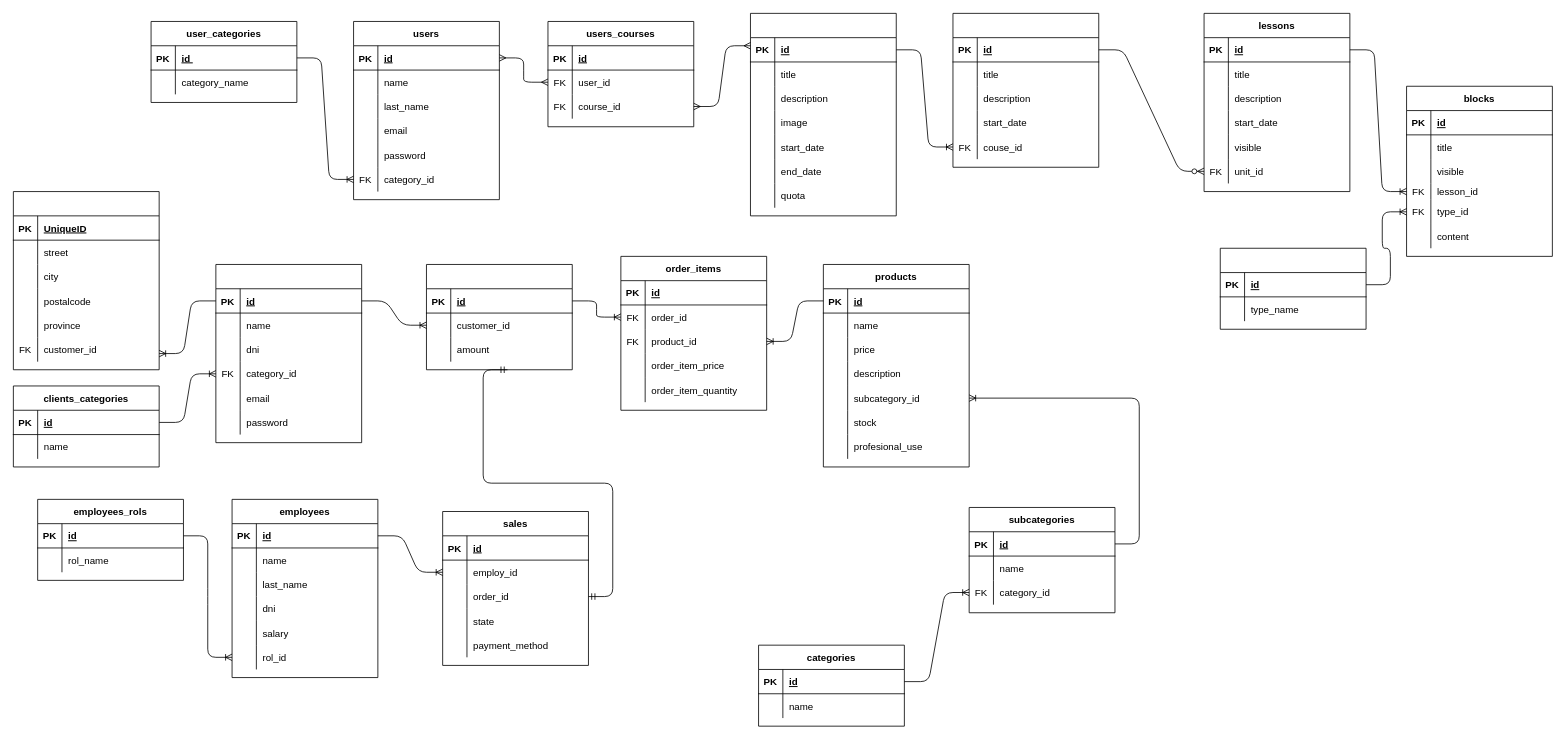
Image size: 1566x740. Some labels were removed from this diagram. Each missing label, with the box of its shape:
addresses: (13, 191, 159, 370)
blocks_types: (1219, 247, 1366, 329)
courses: (750, 13, 896, 216)
customers: (215, 264, 362, 443)
order: (426, 264, 572, 370)
units: (952, 13, 1099, 167)
